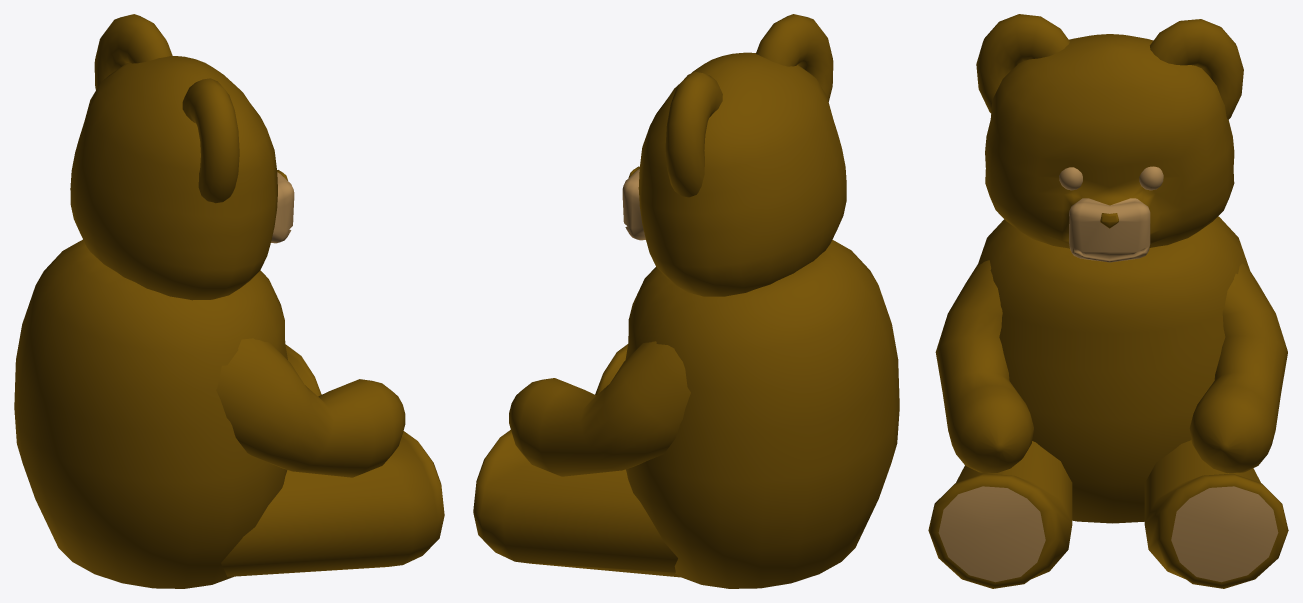
Rendered from OsitoUVs.fbx.
The picture shows the model from 3 angles, left to right: view 1: azimuth 30°, elevation 25°; view 2: azimuth 150°, elevation 25°; view 3: azimuth 270°, elevation 25°; orthographic projection. The views are drawn at different scales.
Visible parts, largest first — view 1: pCylinder6; view 2: pCylinder6; view 3: pCylinder6.
Boxes of the visible parts, <box> form: pCylinder6: <box>14,14,444,588</box>; pCylinder6: <box>473,14,899,588</box>; pCylinder6: <box>928,14,1288,588</box>.
Size of the model in its own units: 23.87 by 36.9 by 24.2.
